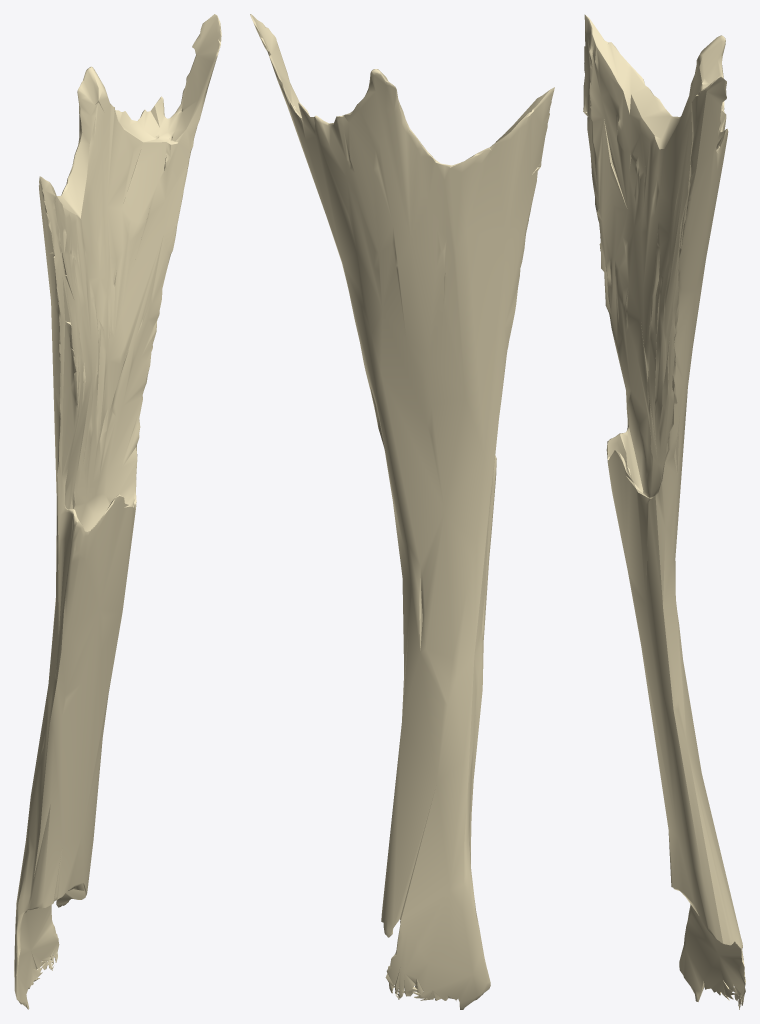
3 renders of one model, left to right at view 1: azimuth 30°, elevation 25°; view 2: azimuth 150°, elevation 25°; view 3: azimuth 270°, elevation 25°, orthographic. The views are drawn at different scales.
Visible parts, largest first — view 1: FJ1405M; view 2: FJ1405M; view 3: FJ1405M.
Part boxes in pixels (left/top/right/bottom): FJ1405M: left=14, top=14, right=221, bottom=1009; FJ1405M: left=250, top=14, right=554, bottom=1009; FJ1405M: left=583, top=14, right=745, bottom=1009.
Bounding box in the file's own units: 0.0566 × 0.2128 × 0.0305.
